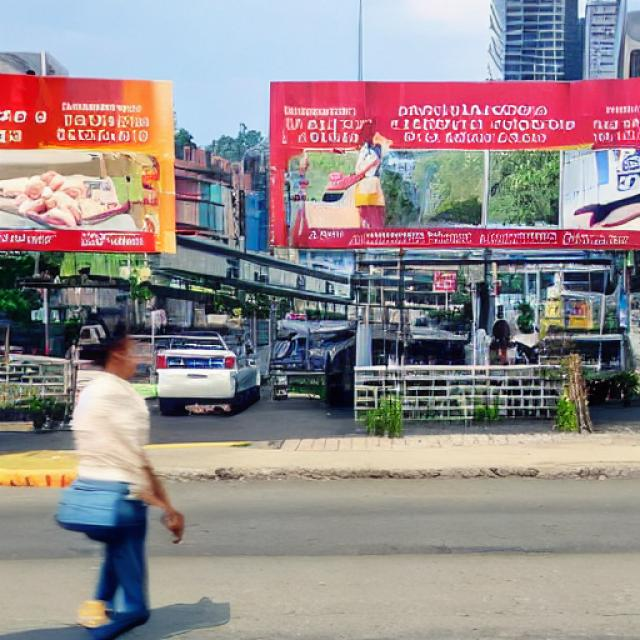Billboard: (266, 75, 640, 255), (0, 73, 174, 255)
